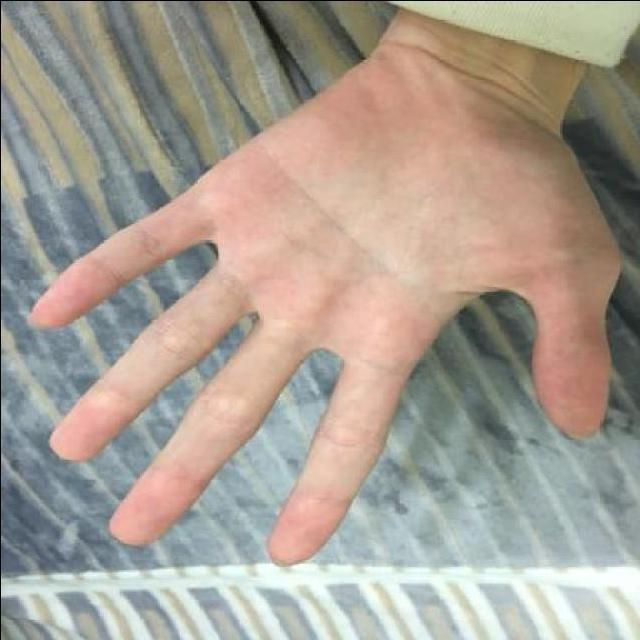hand: (28, 0, 626, 566)
